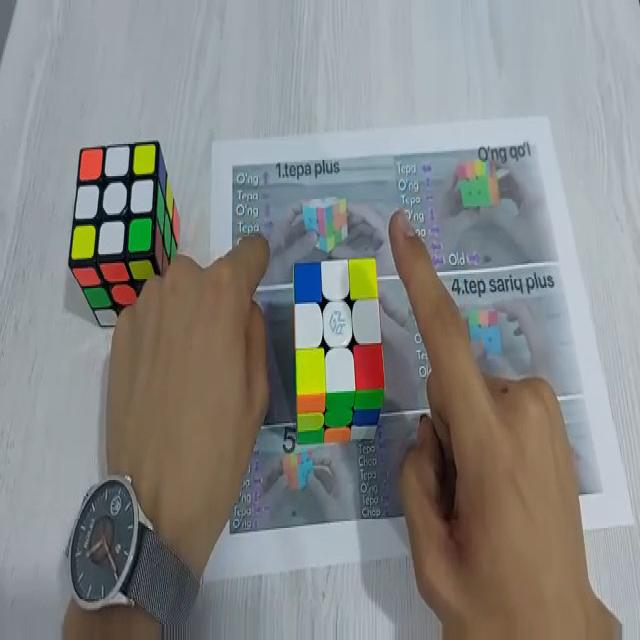Rub: (69, 141, 180, 333), (292, 255, 387, 448)
